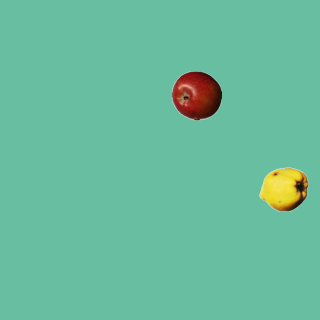Apple Braeburn: (171, 70, 221, 120)
Quince: (258, 164, 308, 214)
